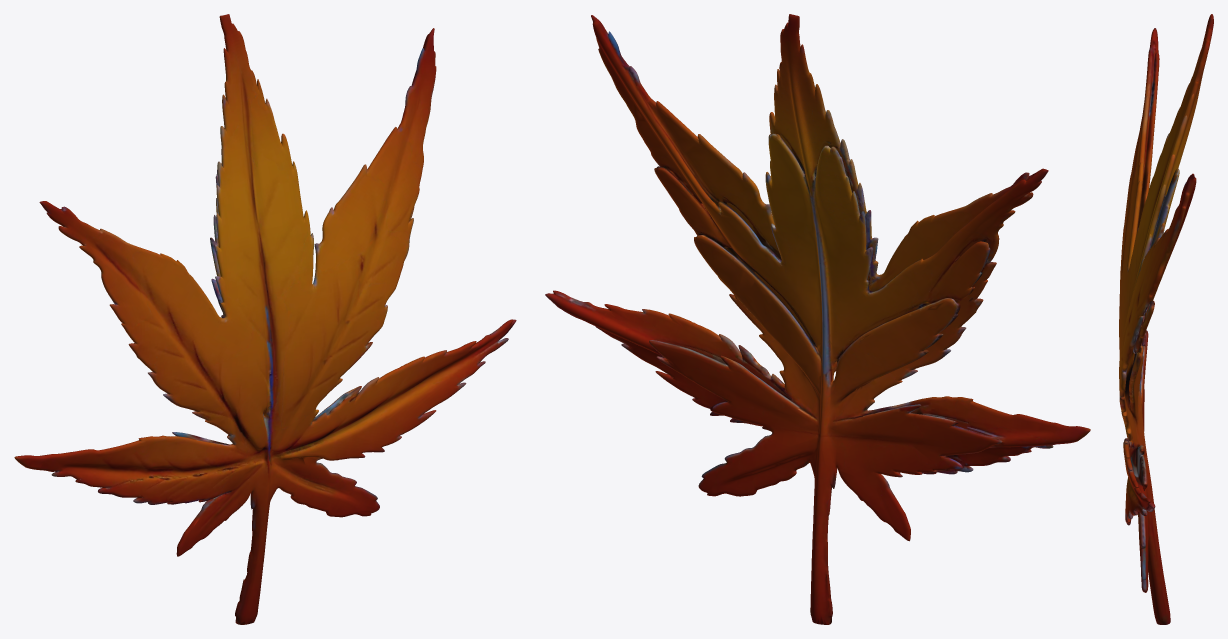
Rendered from maple_leaf.glb.
The picture shows the model from 3 angles, left to right: view 1: azimuth 30°, elevation 25°; view 2: azimuth 150°, elevation 25°; view 3: azimuth 270°, elevation 25°; orthographic projection. The views are drawn at different scales.
Parts seen in each view (by area): view 1: node_0; view 2: node_0; view 3: node_0.
Boxes of the visible parts, <box> form: node_0: <box>14,14,516,624</box>; node_0: <box>545,14,1090,624</box>; node_0: <box>1119,14,1213,624</box>.
Bounding box in the file's own units: 1.02 × 1.13 × 0.1605.
Materials: 1 (1 with a texture image).
